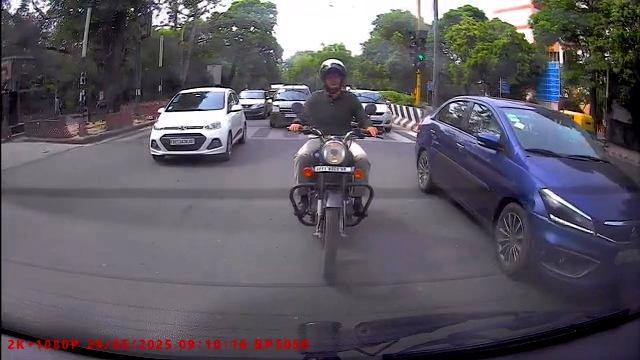motorcycle_with_helmet: (293, 57, 376, 288)
